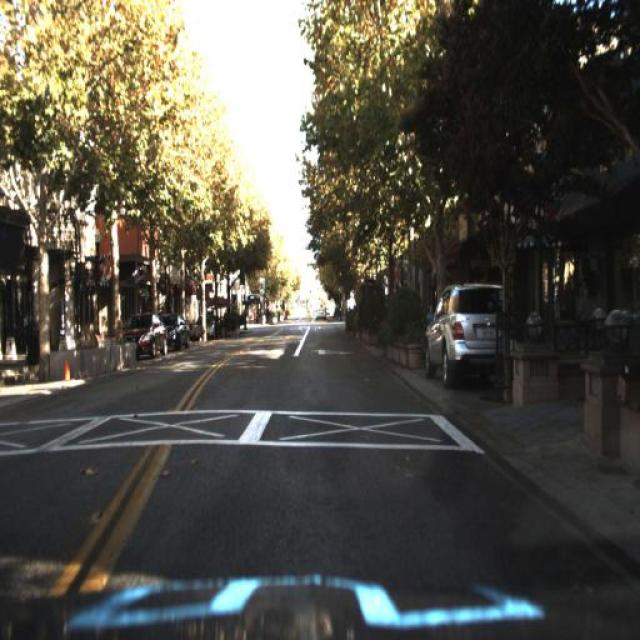car: (418, 273, 514, 393), (118, 312, 167, 360), (162, 307, 190, 352), (192, 314, 214, 344)
